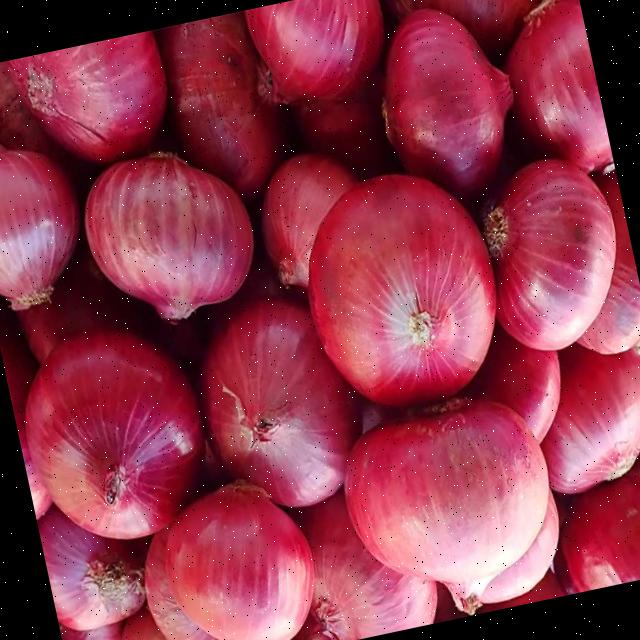Onion: (342, 396, 546, 613), (307, 171, 494, 405), (23, 326, 205, 538), (196, 296, 361, 505), (82, 149, 252, 316), (477, 155, 615, 349), (380, 5, 512, 206), (163, 476, 314, 640), (4, 29, 167, 165), (538, 340, 640, 492), (244, 0, 382, 106), (257, 147, 356, 284), (0, 144, 80, 303)
